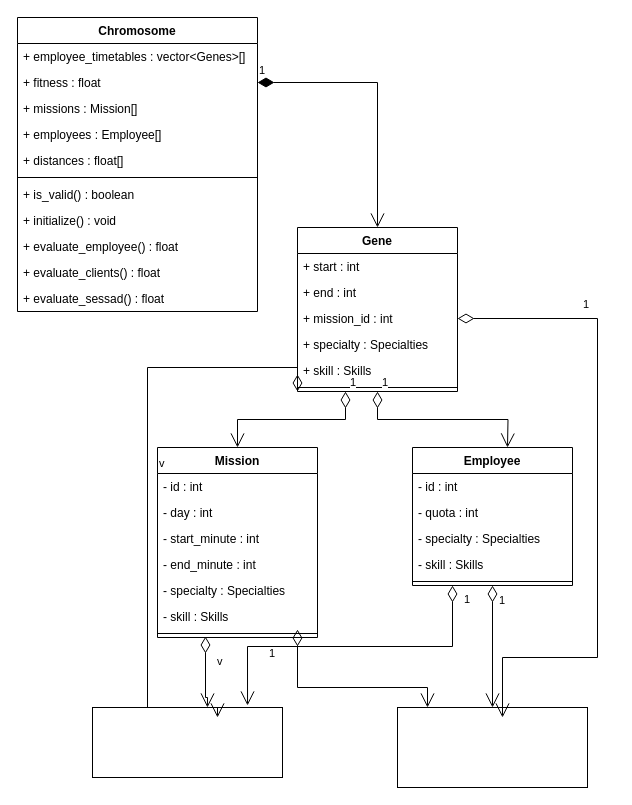
Some shapes in this 632 by 805 pixel diagram are drawn without their labels. The centre of each missing label's shape, as x and y in pixels:
"<<Enum>> Skills SIGN_LANGUAGE, LPC" goes at point 187,742.
"<<Enum>> Specialties ELECTRICITY, CARPENTRY, MUSIC, MECANIC, GARDENING" goes at point 492,747.
